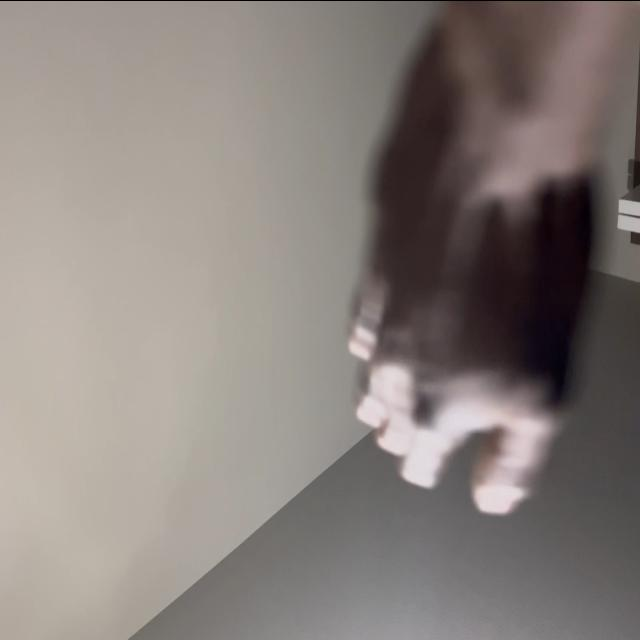Paper: (346, 31, 604, 527)
